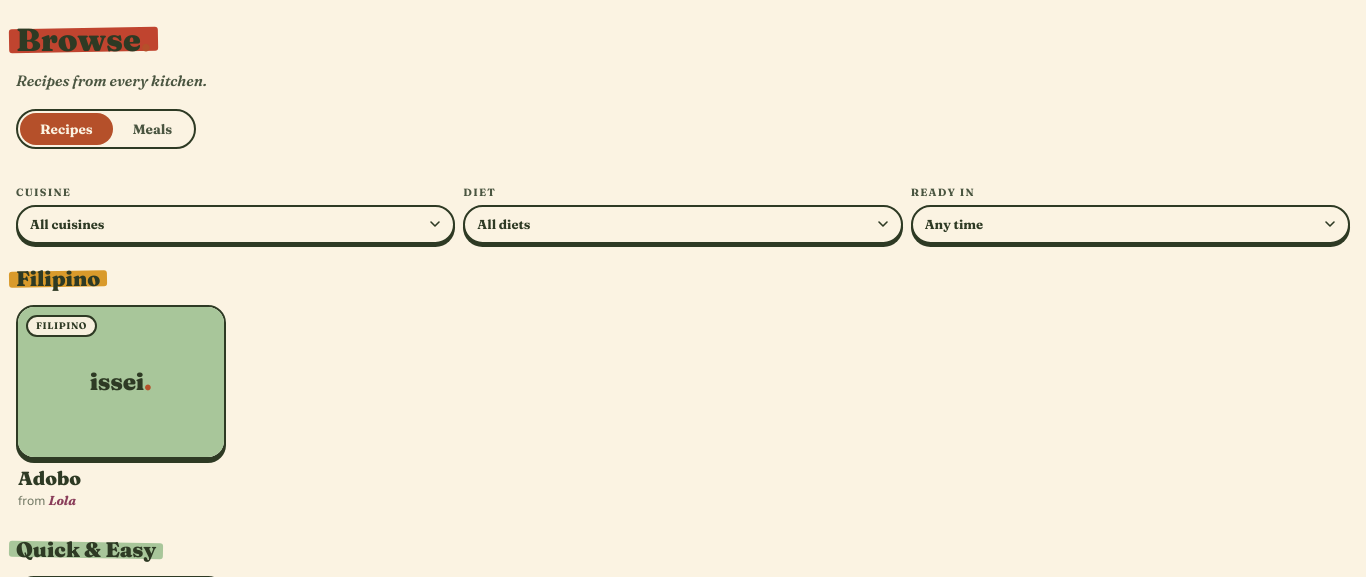
it: Browse — Recipes | Meals tabs (#71) › shows a meals empty state when nobody has shared a public meal
Click the tab "Meals".
click(152, 129)  # box [113,112,192,145]
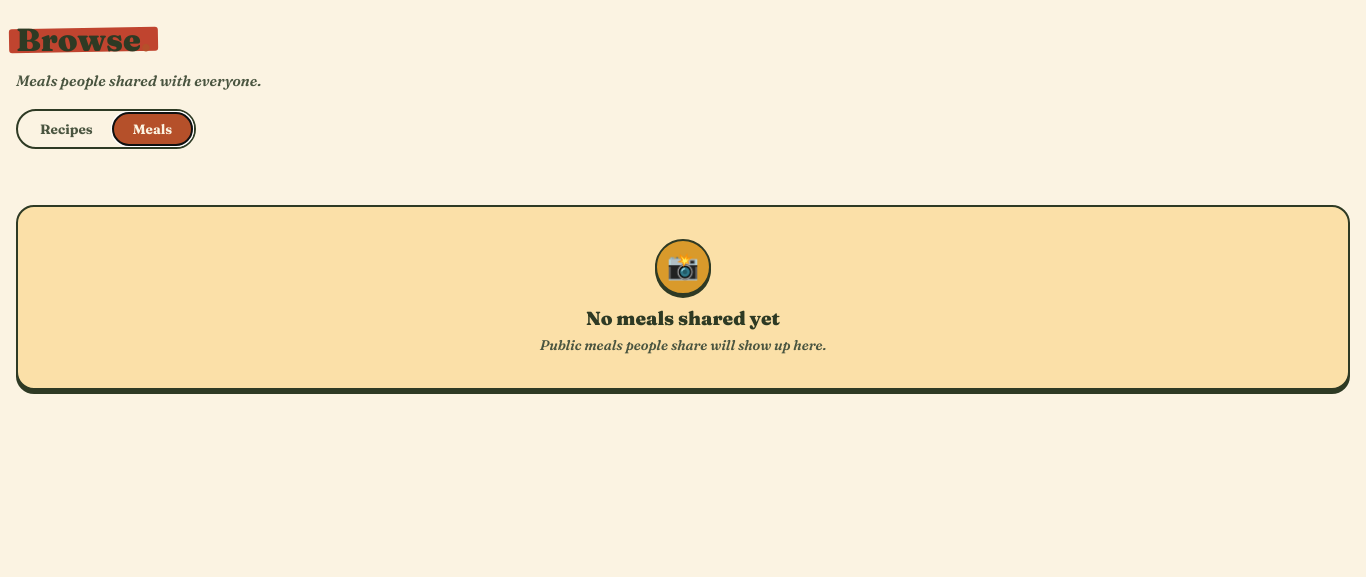
Expected: the text "No meals shared yet" is shown, [586,306,780,330]
